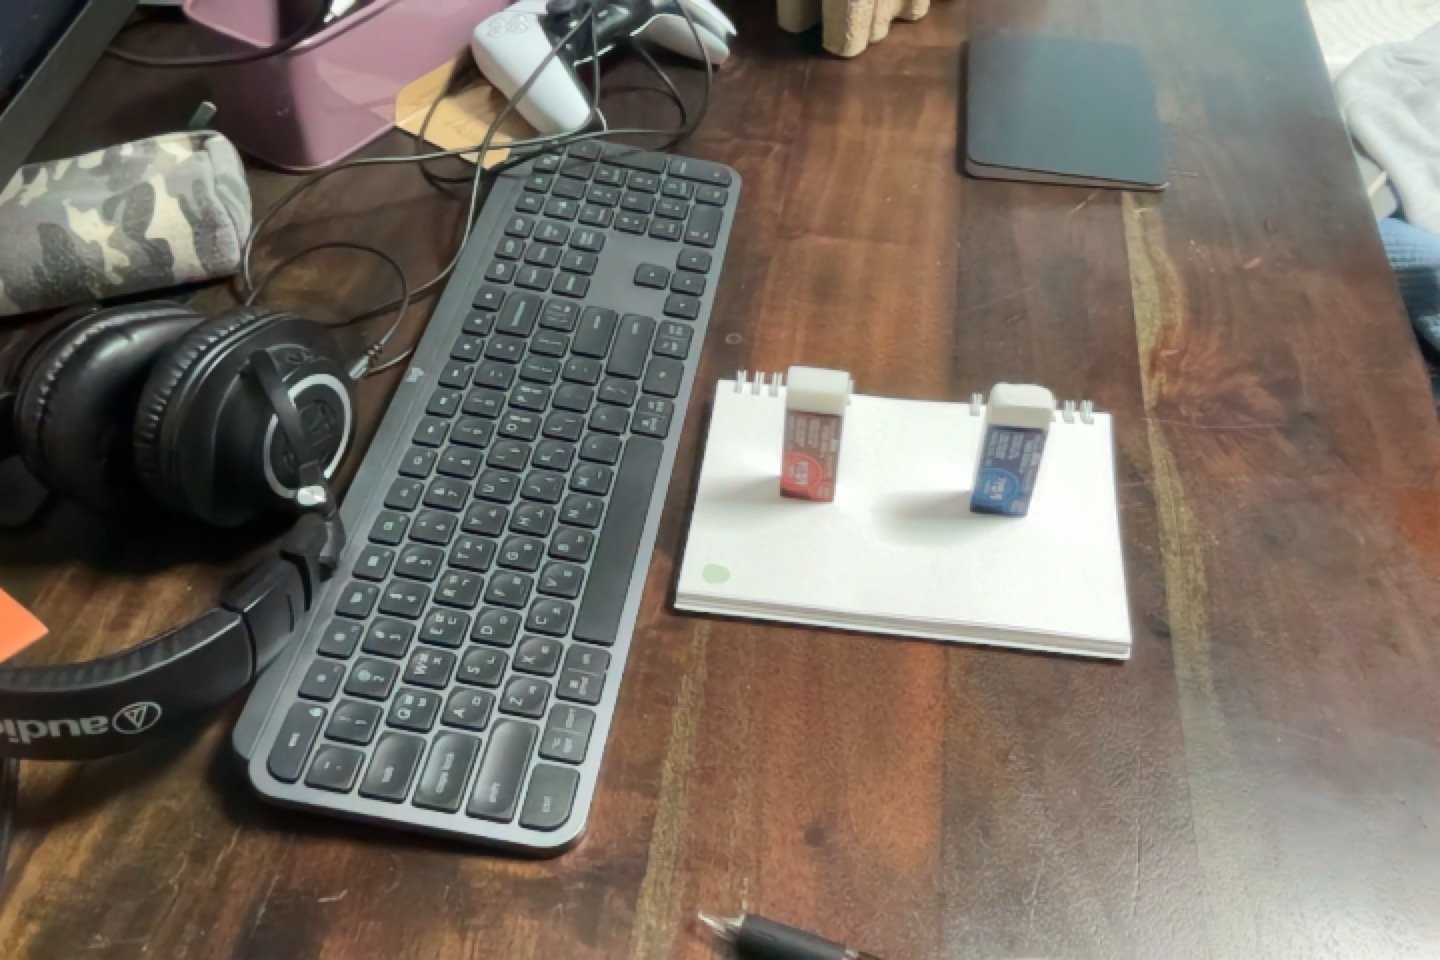blue: (966, 377, 1059, 523)
red: (778, 359, 852, 508)
